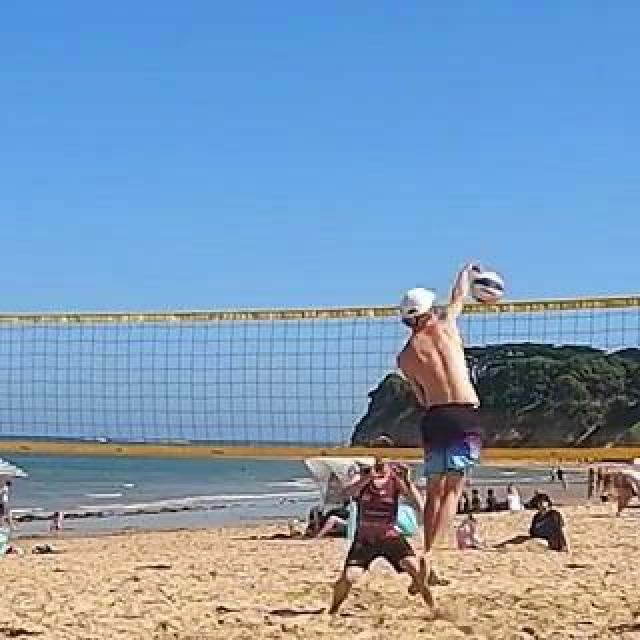volleyball: (472, 270, 504, 302)
